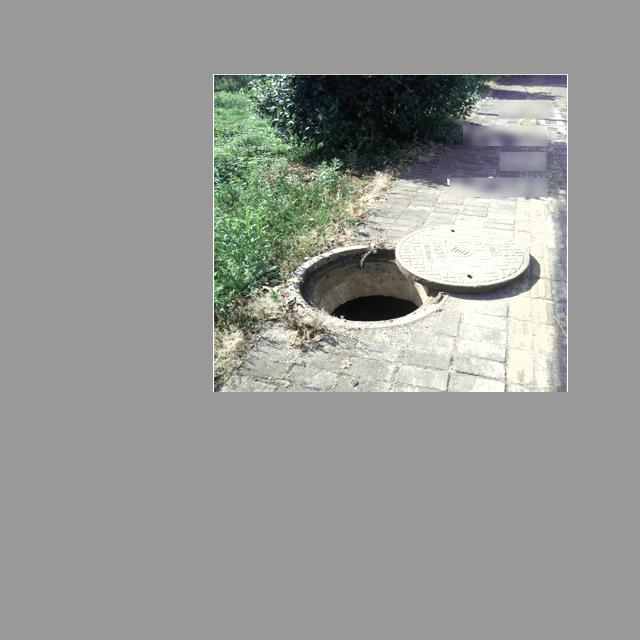uncovered: (292, 224, 531, 328)
